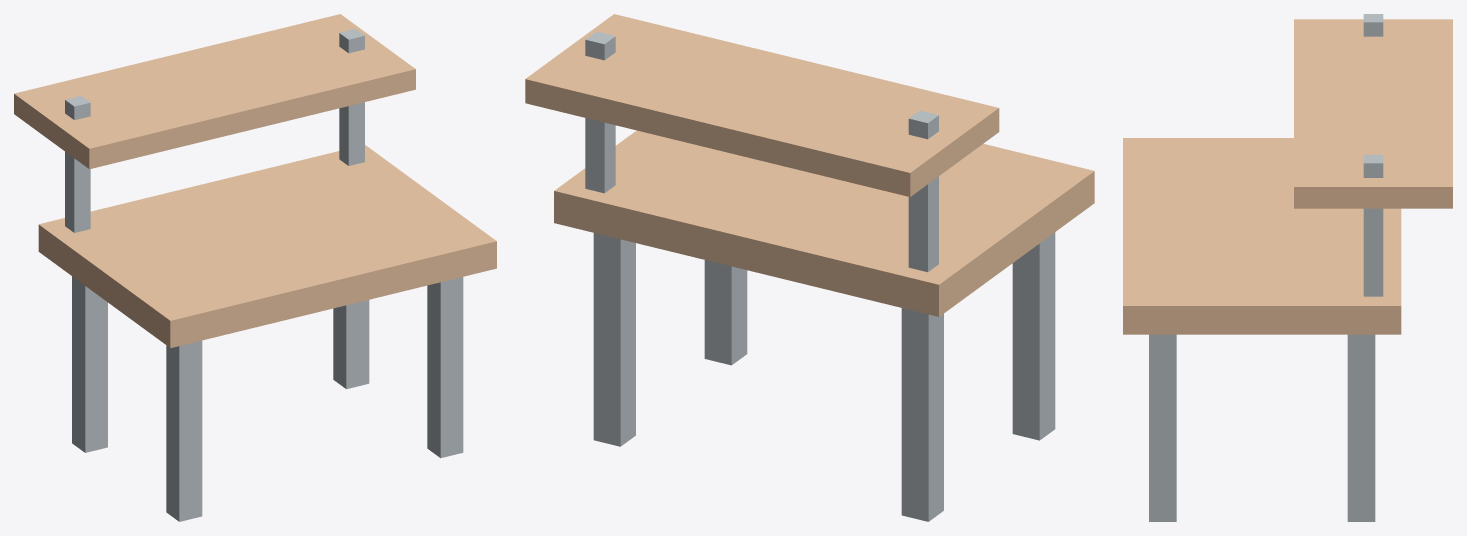
The model's file is packing_station.glb.
3 views of the same model, side by side, from view 1: azimuth 30°, elevation 25°; view 2: azimuth 150°, elevation 25°; view 3: azimuth 270°, elevation 25° (orthographic). The views are drawn at different scales.
Bounding box in the file's own units: 1 × 1 × 0.83.
